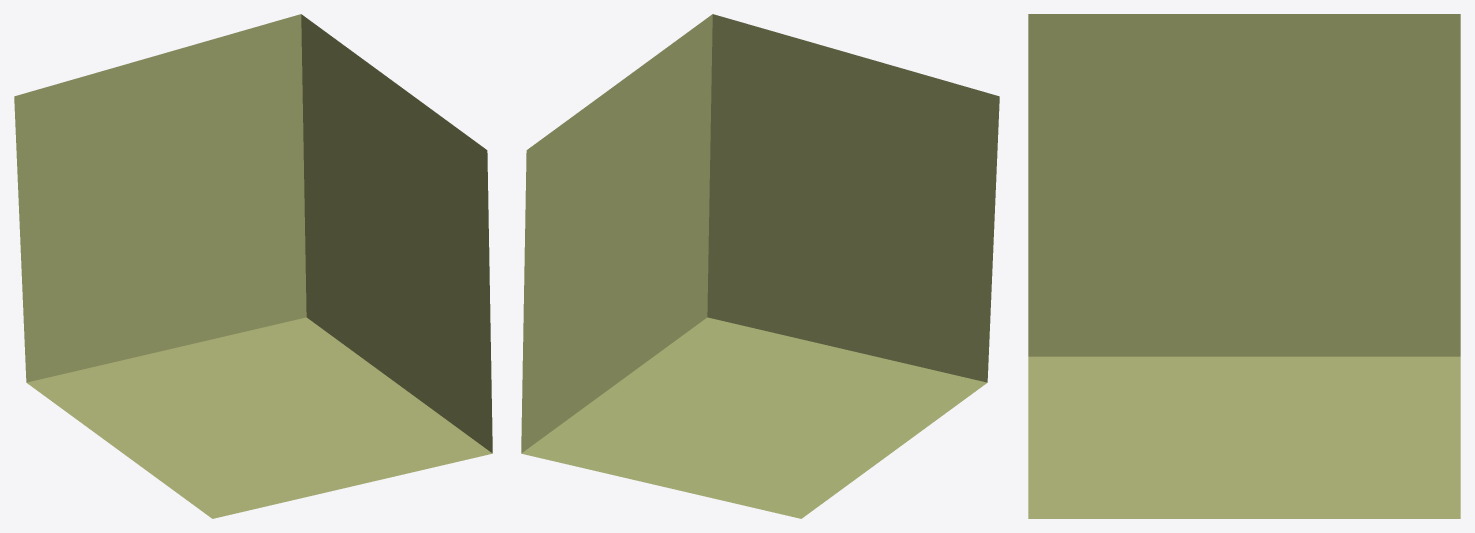
3 renders of one model, left to right at view 1: azimuth 30°, elevation 25°; view 2: azimuth 150°, elevation 25°; view 3: azimuth 270°, elevation 25°, orthographic. The views are drawn at different scales.
Parts seen in each view (by area): view 1: 0_1_0_0_1_3_2_2_0_2_3; view 2: 0_1_0_0_1_3_2_2_0_2_3; view 3: 0_1_0_0_1_3_2_2_0_2_3.
Part boxes in pixels (bbox=[...]): 0_1_0_0_1_3_2_2_0_2_3: bbox=[14, 14, 492, 518]; 0_1_0_0_1_3_2_2_0_2_3: bbox=[521, 14, 999, 518]; 0_1_0_0_1_3_2_2_0_2_3: bbox=[1028, 14, 1460, 518].
Bounding box in the file's own units: 5.44 × 5.42 × 6.
